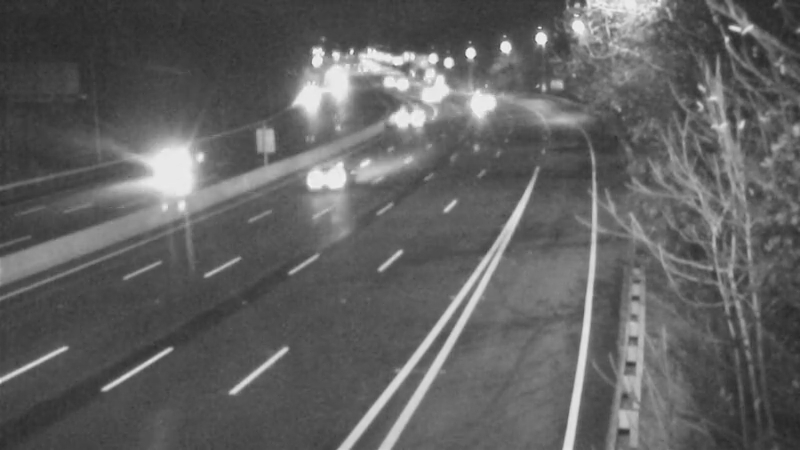vehicle: (290, 137, 370, 217), (133, 120, 213, 200), (409, 67, 459, 117), (456, 77, 506, 127), (384, 90, 434, 140)
